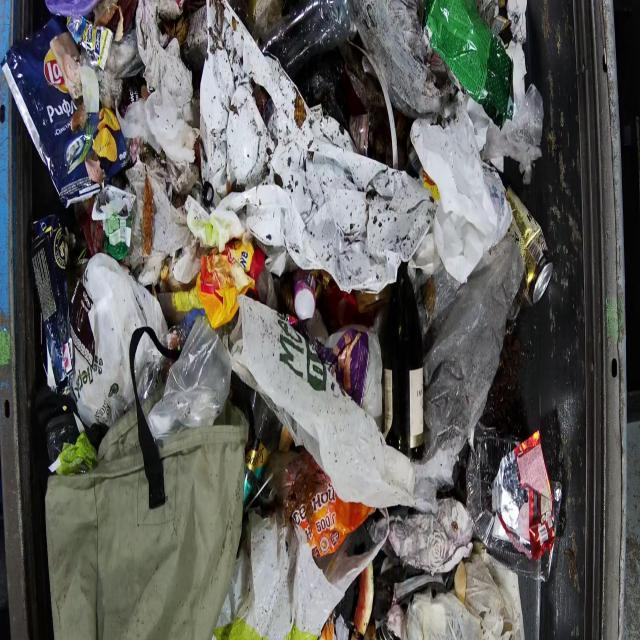bottles: (379, 260, 426, 461)
other-trash: (3, 0, 561, 638)
